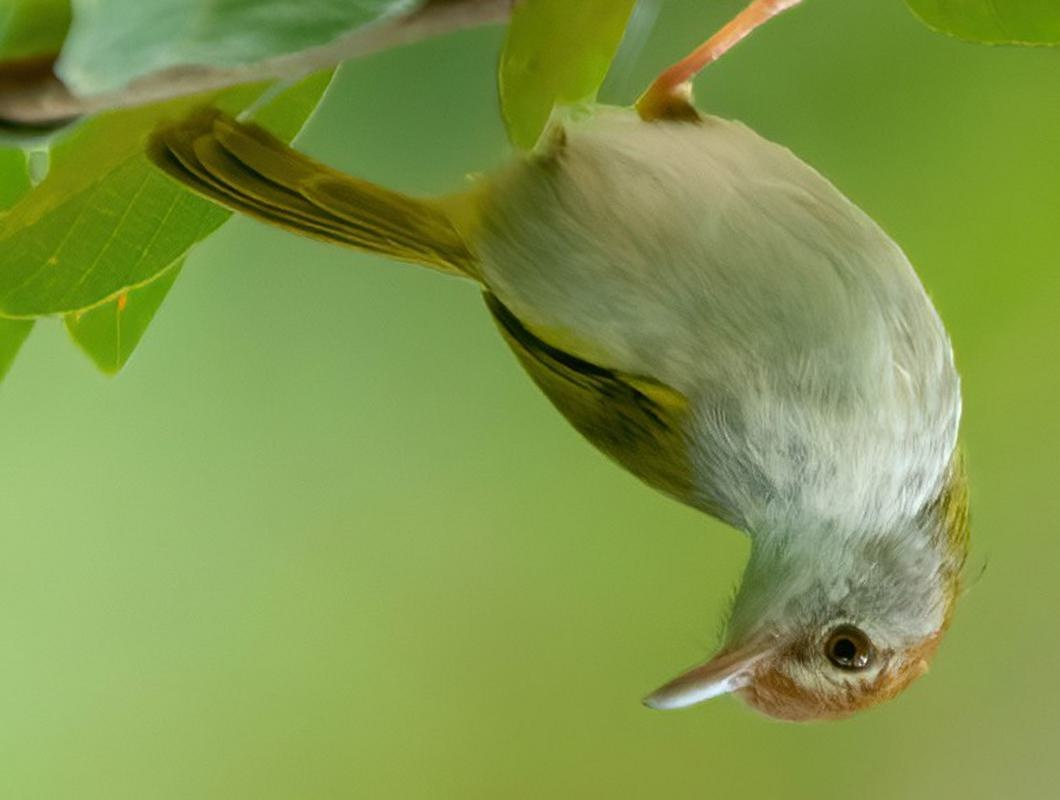tailorbird: (181, 15, 980, 761)
